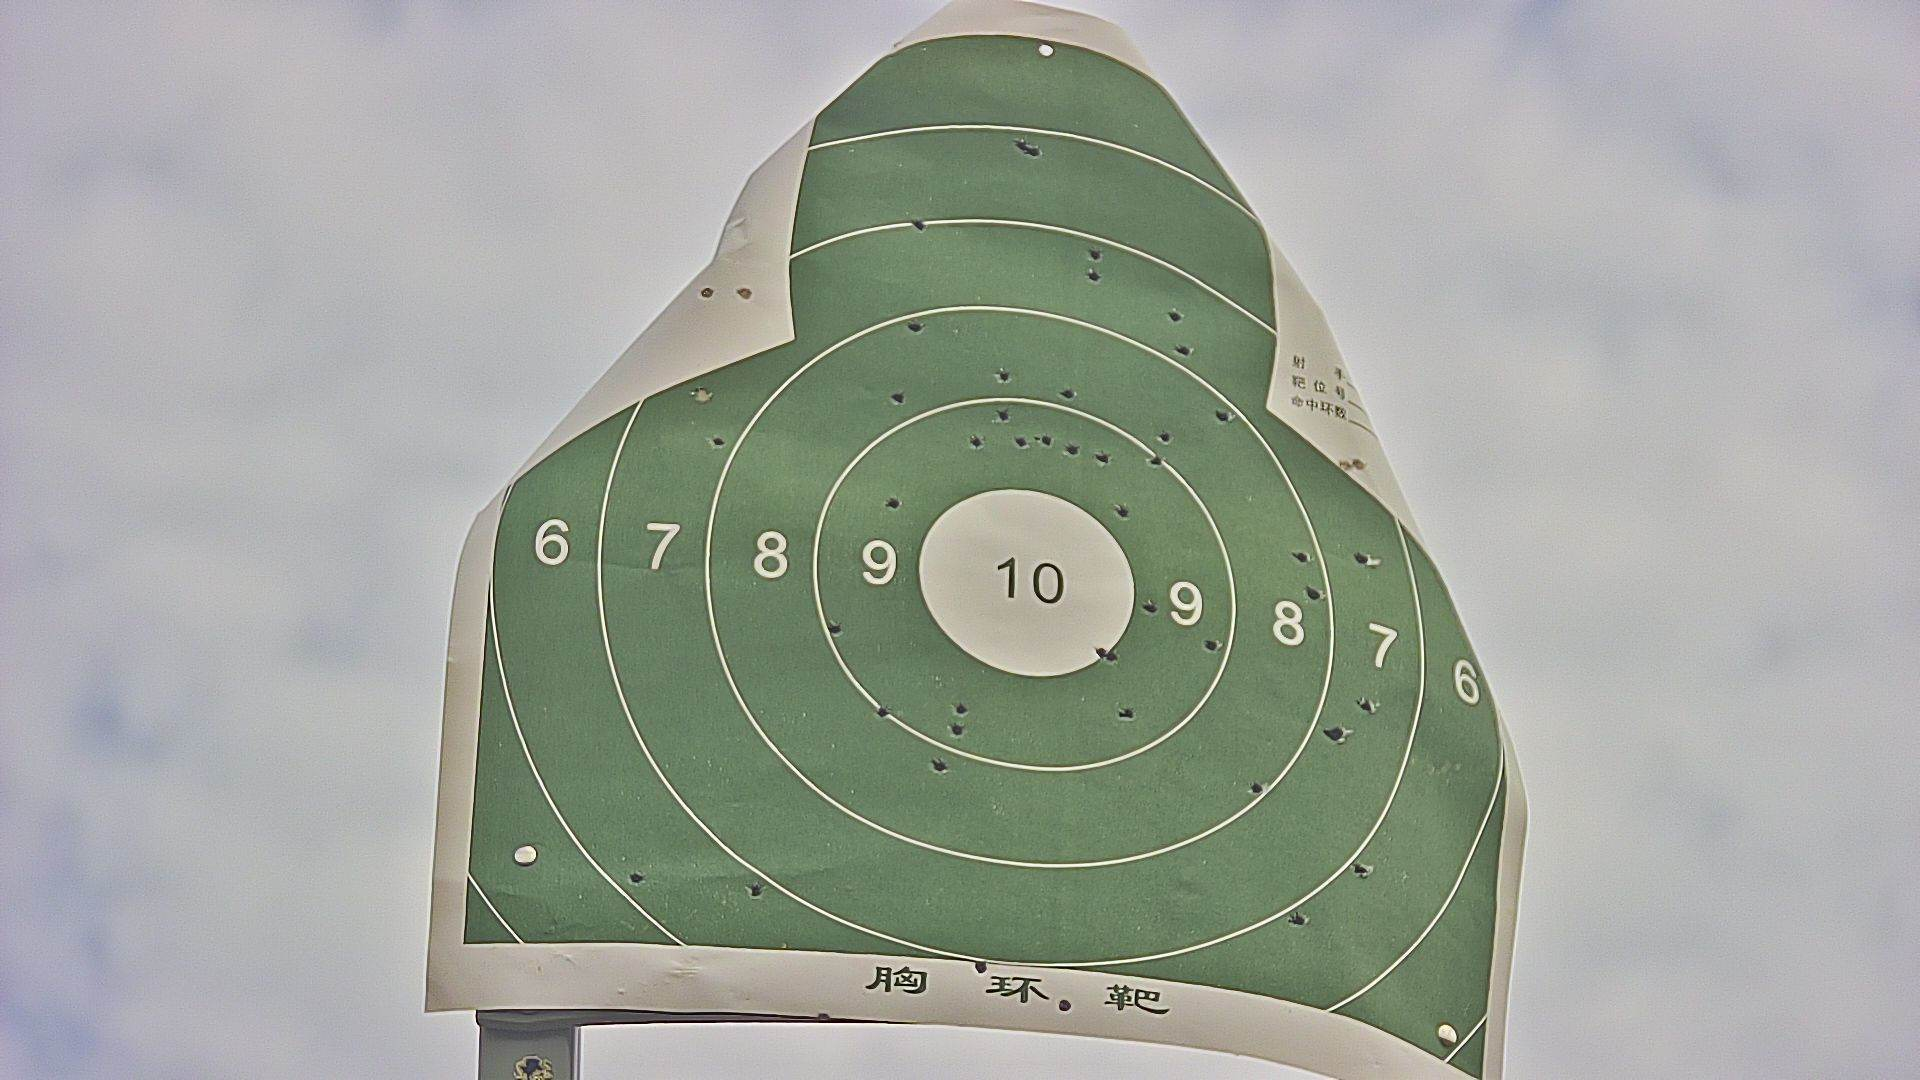hole: (691, 386, 713, 406), (1287, 909, 1307, 928), (1354, 547, 1373, 568), (1116, 705, 1137, 723), (1358, 695, 1375, 716), (1036, 41, 1055, 59), (1213, 407, 1232, 426), (827, 618, 845, 637), (884, 493, 903, 510), (1056, 996, 1073, 1015), (1291, 549, 1311, 566), (1325, 725, 1346, 741), (1102, 646, 1120, 665), (1305, 584, 1323, 603), (909, 316, 924, 336), (889, 392, 909, 407), (947, 719, 963, 738), (1352, 858, 1367, 878), (1095, 450, 1112, 467), (952, 700, 971, 716), (1204, 637, 1222, 653), (746, 884, 764, 899), (1139, 600, 1162, 612), (1087, 245, 1102, 261), (709, 435, 725, 451), (968, 433, 984, 448), (876, 703, 891, 719), (1352, 456, 1367, 472), (1176, 343, 1193, 357), (1036, 431, 1051, 448), (1168, 309, 1183, 324), (1117, 502, 1130, 520), (932, 757, 945, 774), (975, 957, 988, 975), (910, 219, 924, 233), (1013, 435, 1027, 450), (1247, 779, 1262, 794), (994, 407, 1010, 421), (997, 369, 1011, 382), (1060, 386, 1075, 400), (1156, 430, 1170, 444), (1150, 454, 1163, 468), (630, 869, 644, 884), (1087, 266, 1098, 282), (1337, 460, 1353, 472), (698, 286, 713, 298), (1065, 443, 1079, 456), (1093, 645, 1106, 658), (735, 286, 749, 298), (1030, 144, 1040, 160), (1015, 137, 1025, 150)
target: (465, 34, 1509, 1080)
ten: (916, 485, 1133, 682)
